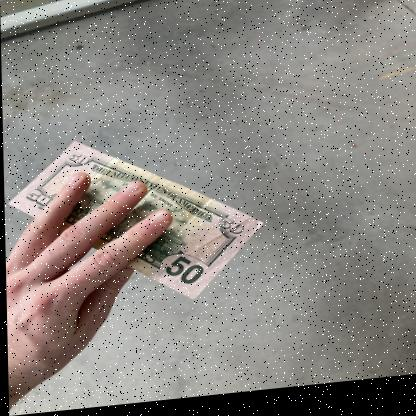fifty-back: (6, 137, 265, 301)
